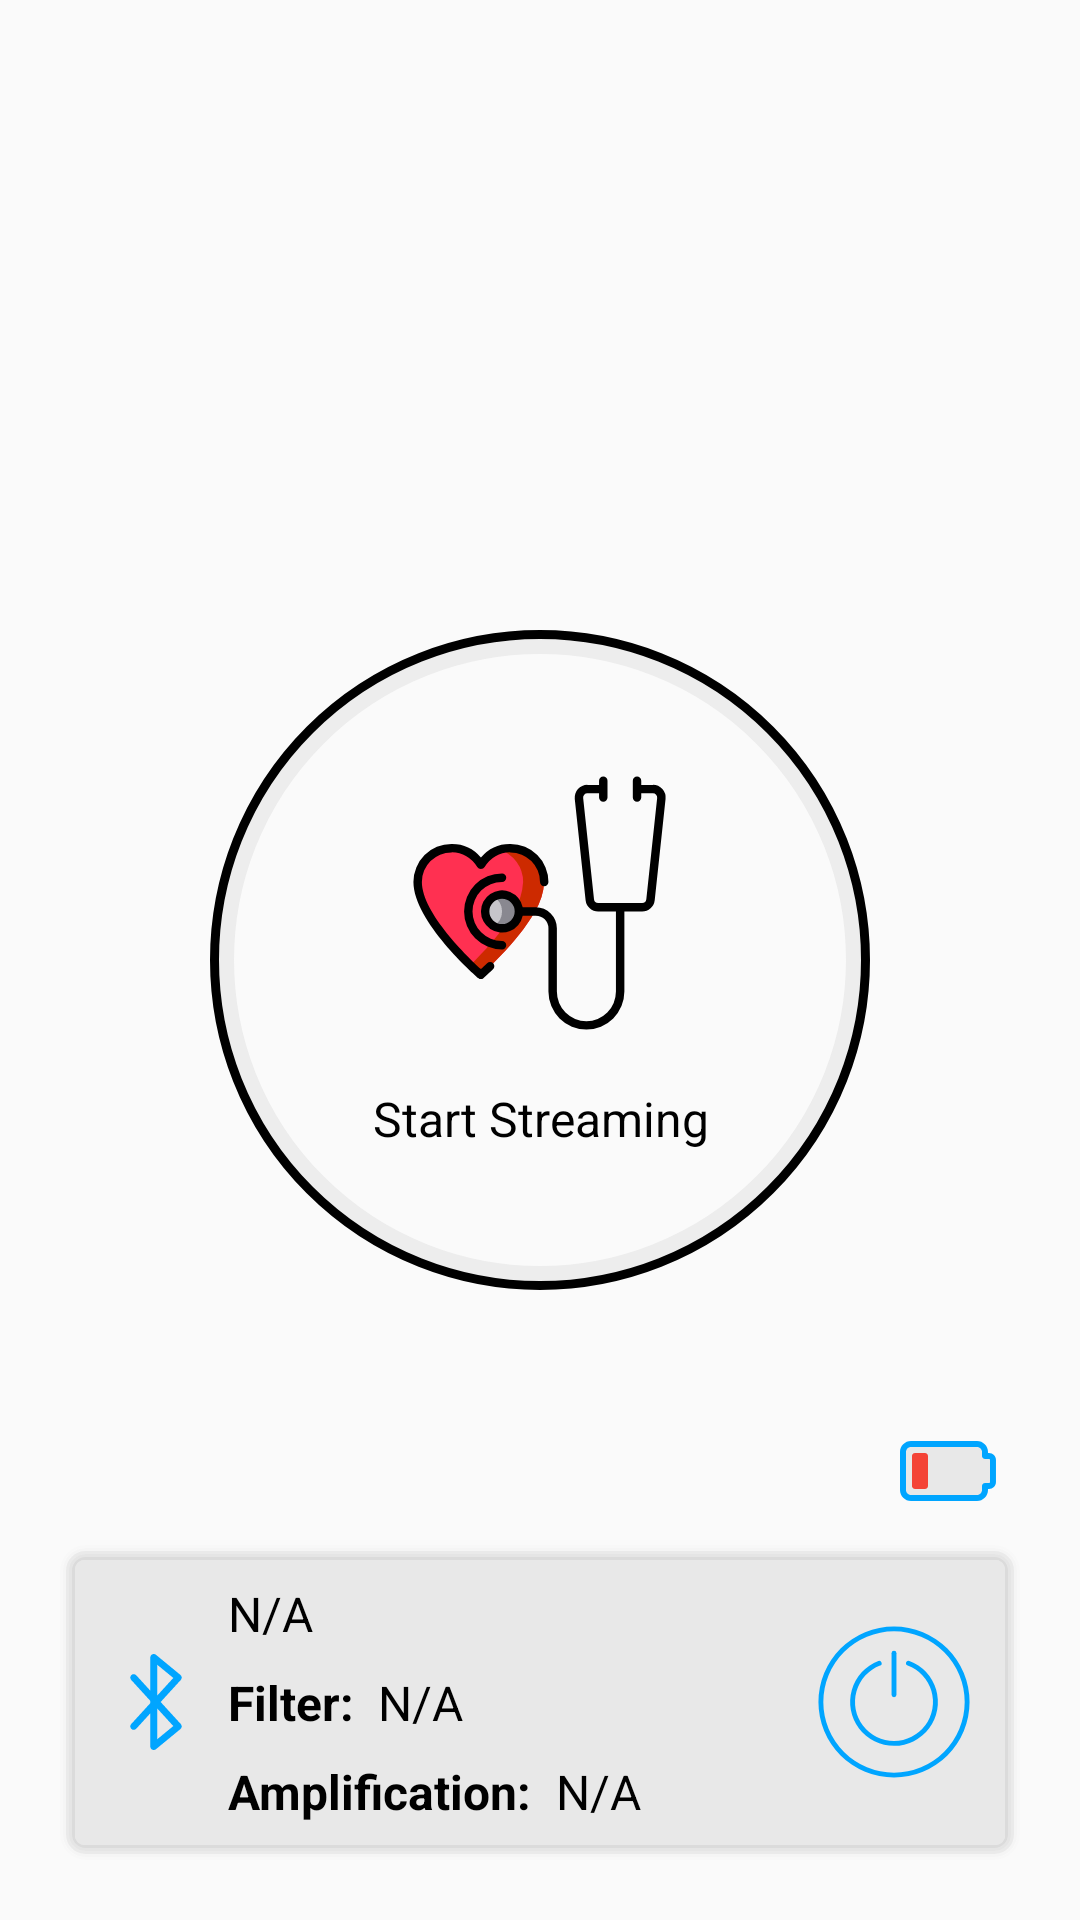

Icon click points for this 1080*1920 phone screenshot, format (x=x, y=y):
battery low: (x=948, y=1471)
off: (x=894, y=1702)
stethoscope streaming: (x=539, y=903)
